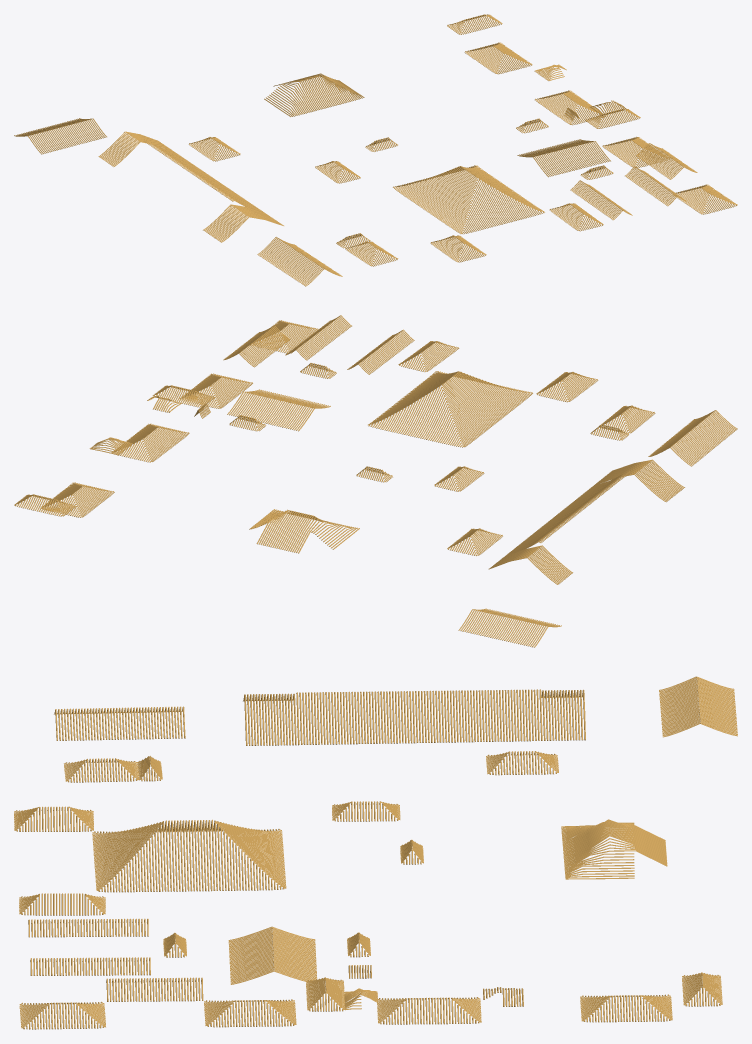
The model's file is roof-tiles-1-8.glb.
The picture shows the model from 3 angles, top to bottom: view 1: azimuth 30°, elevation 25°; view 2: azimuth 150°, elevation 25°; view 3: azimuth 270°, elevation 25°; orthographic projection. The views are drawn at different scales.
Visible parts, largest first — view 1: roof-tiles-1-8_micro_Roof_Glazed_Ochre; view 2: roof-tiles-1-8_micro_Roof_Glazed_Ochre; view 3: roof-tiles-1-8_micro_Roof_Glazed_Ochre.
Boxes of the visible parts, x1=… form: roof-tiles-1-8_micro_Roof_Glazed_Ochre: x1=14, y1=14, x2=737, y2=286; roof-tiles-1-8_micro_Roof_Glazed_Ochre: x1=14, y1=315, x2=737, y2=647; roof-tiles-1-8_micro_Roof_Glazed_Ochre: x1=14, y1=676, x2=737, y2=1029.
Bounding box in the file's own units: 1.09 × 0.0929 × 0.9935.
